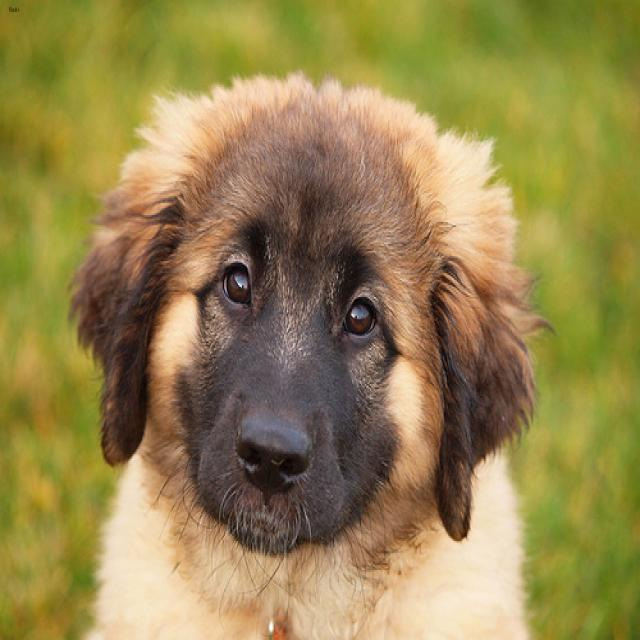dog-leonberger: (64, 60, 561, 637)
